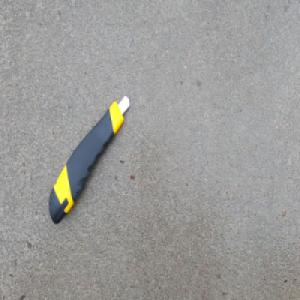Cutter: (48, 92, 131, 224)
